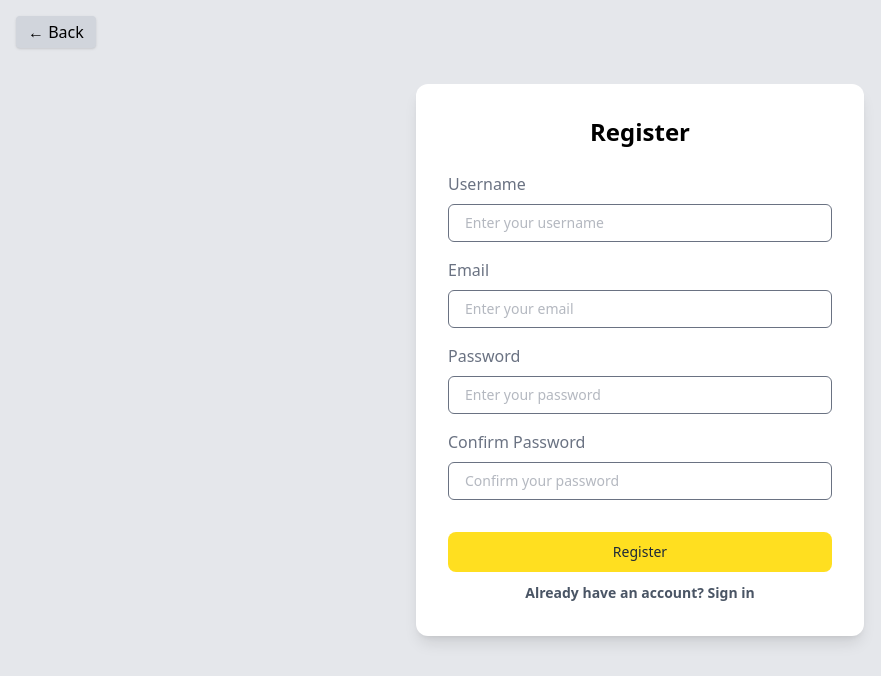
Test: Register page › shows error when passwords do not match
The width and height of the screenshot is (881, 676).
In the field with test id "input-username": [640, 223] box [448,204,832,242], type "testuser"
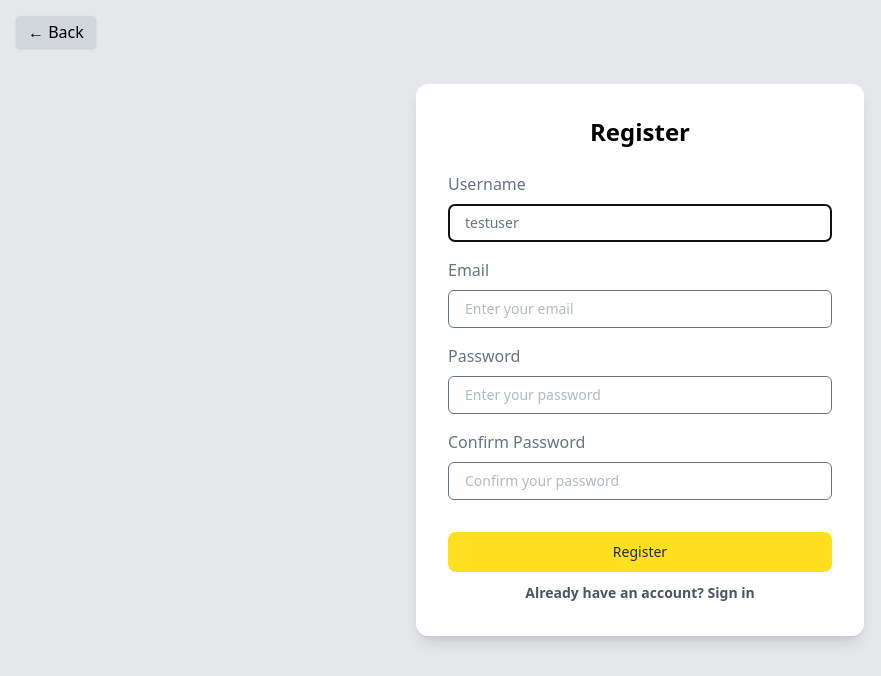
In the field with test id "input-email": [640, 309] box [448,290,832,328], type "invalid_test@example.com"
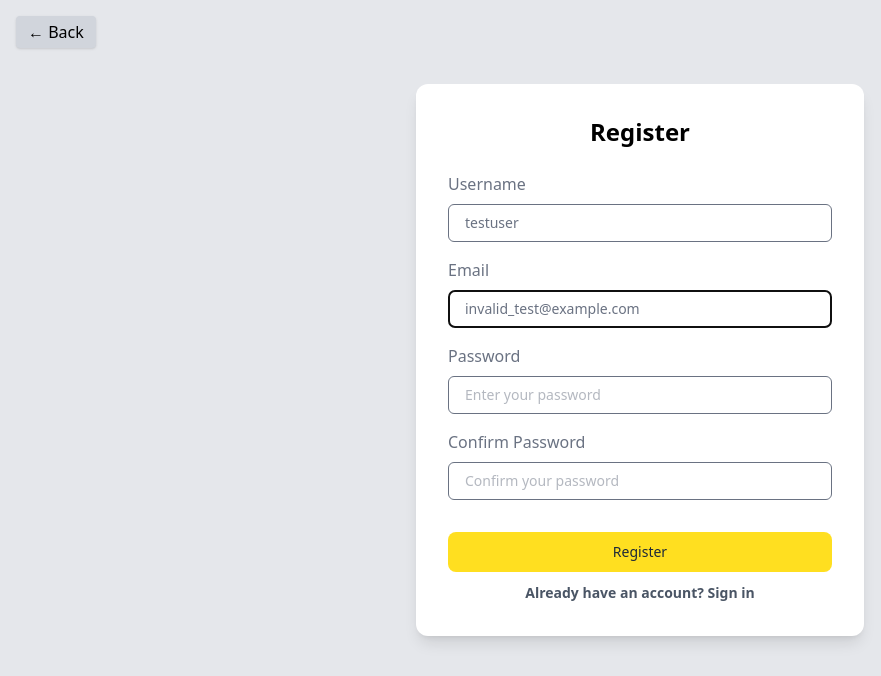
In the password field with test id "input-password": [640, 395] box [448,376,832,414], type "password123"
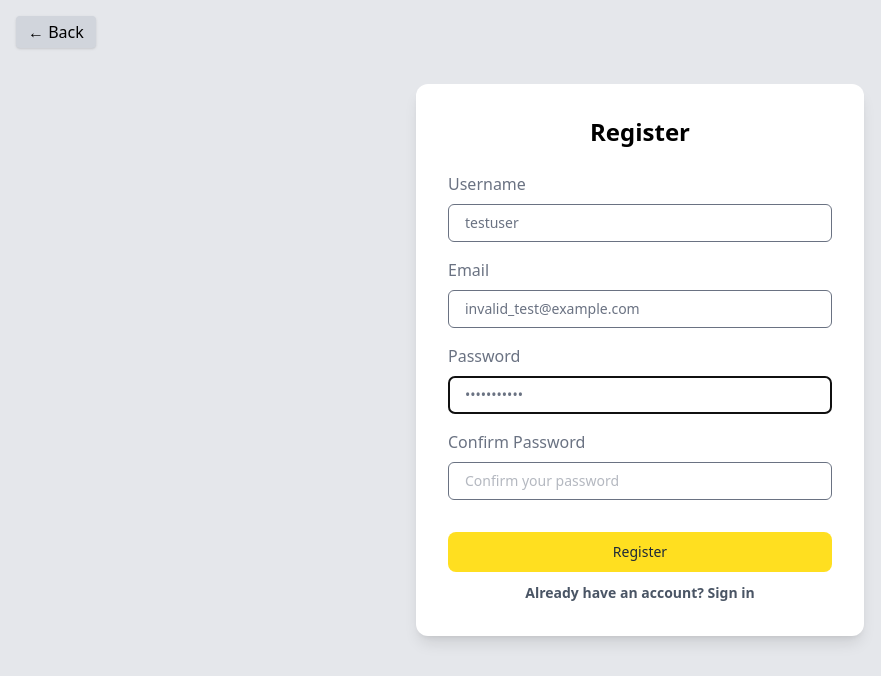
In the password field with test id "input-confirm-password": [640, 481] box [448,462,832,500], type "differentpassword"
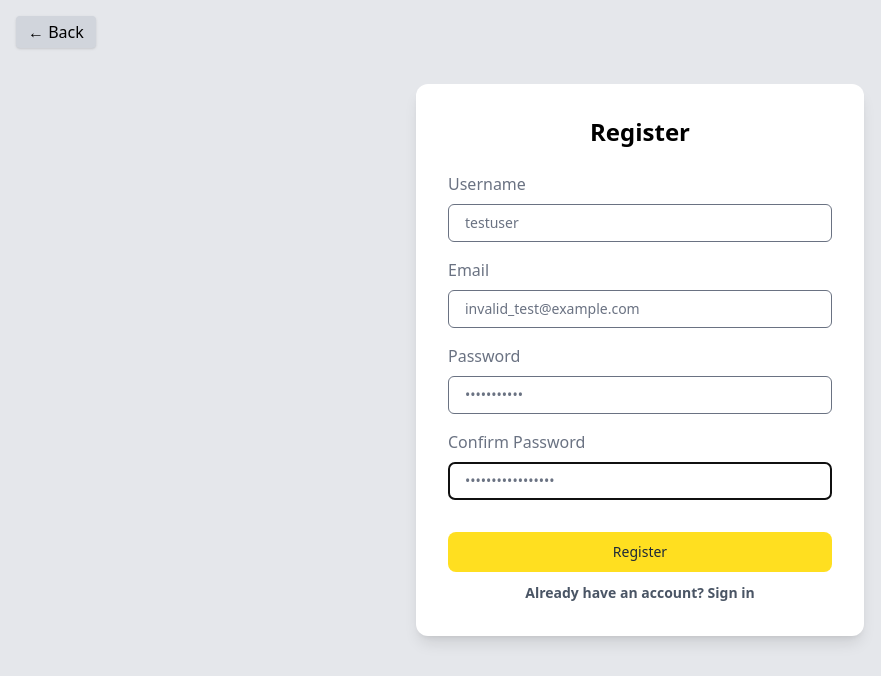
Click the button with test id "submit-register": [640, 552] box [448,532,832,572]
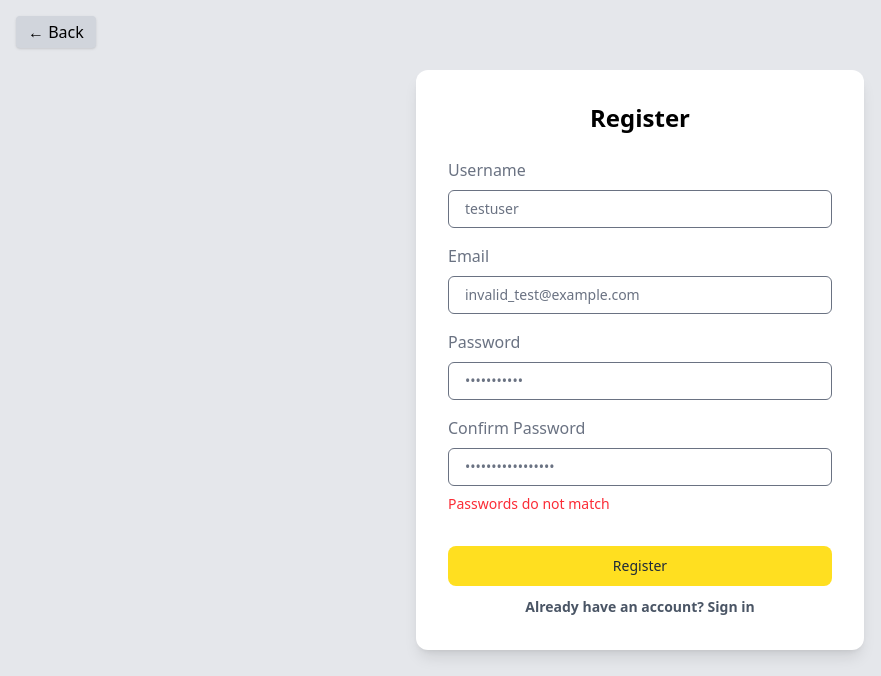
Expected: the text with test id "error-message" reads "Passwords do not match", [448,494,610,513]
